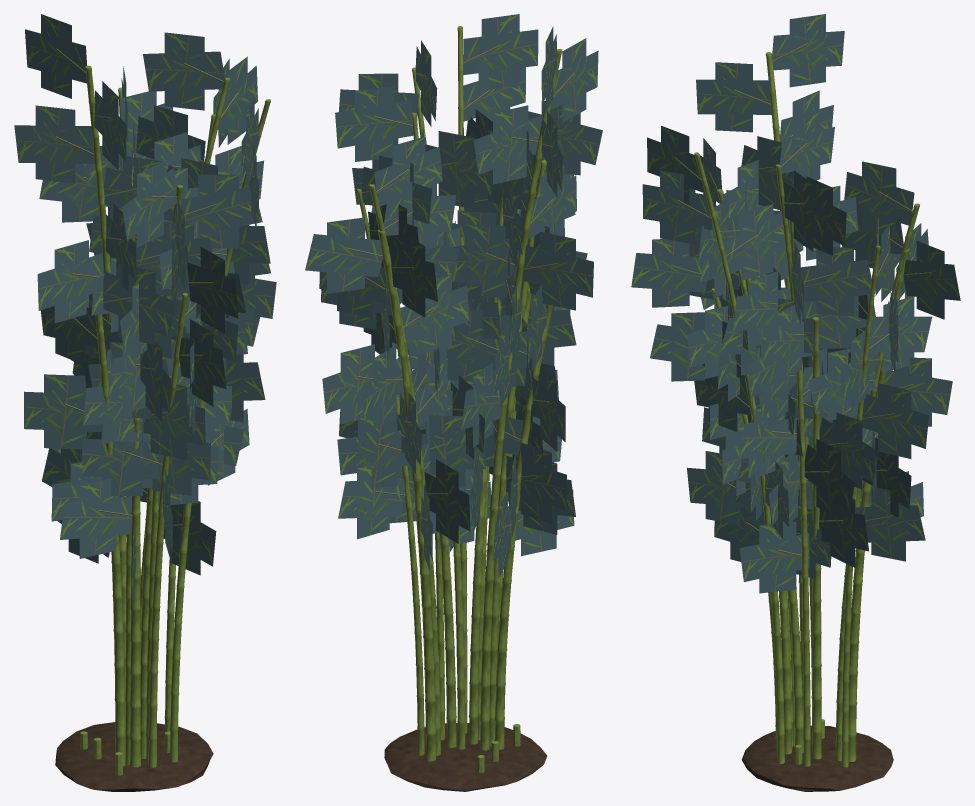
Rendered from bamboo-clump.glb.
3 renders of one model, left to right at view 1: azimuth 30°, elevation 25°; view 2: azimuth 150°, elevation 25°; view 3: azimuth 270°, elevation 25°, orthographic. The views are drawn at different scales.
Visible parts, largest first — view 1: Bamboo_Clump; view 2: Bamboo_Clump; view 3: Bamboo_Clump.
Boxes of the visible parts, <box> form: Bamboo_Clump: <box>14,14,276,791</box>; Bamboo_Clump: <box>305,14,602,791</box>; Bamboo_Clump: <box>631,14,960,791</box>.
Bounding box in the file's own units: 2.58 × 7.83 × 3.28.
4 materials, 3 textured.
